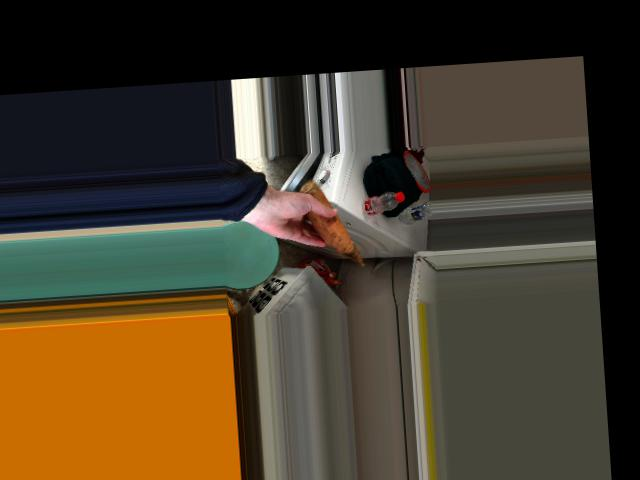sweet_potato: (306, 198, 356, 249)
